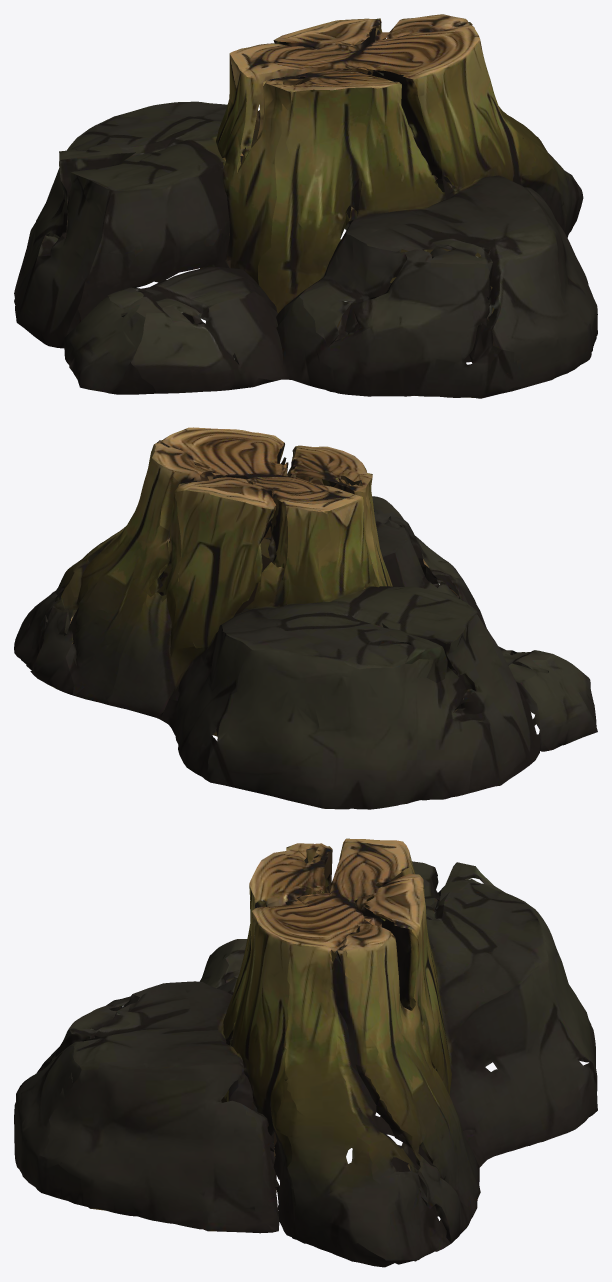
The model's file is item_charcoal.glb.
The picture shows the model from 3 angles, top to bottom: view 1: azimuth 30°, elevation 25°; view 2: azimuth 150°, elevation 25°; view 3: azimuth 270°, elevation 25°; orthographic projection. The views are drawn at different scales.
Visible parts, largest first — view 1: item_charcoal; view 2: item_charcoal; view 3: item_charcoal.
Boxes of the visible parts, x1,y1,x2,y2 form: item_charcoal: (14,14,597,398); item_charcoal: (14,427,597,809); item_charcoal: (14,838,597,1267).
Bounding box in the file's own units: 0.18 × 0.073 × 0.1513.
1 material, 1 textured.
